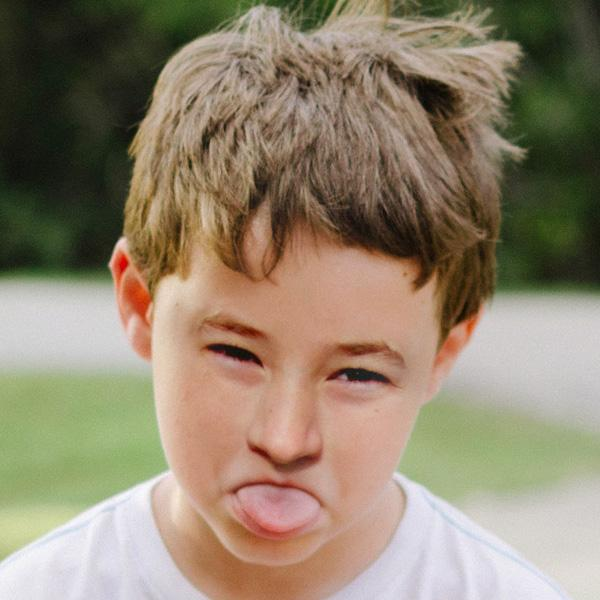Eyes: (193, 326, 269, 381), (317, 354, 397, 400)
